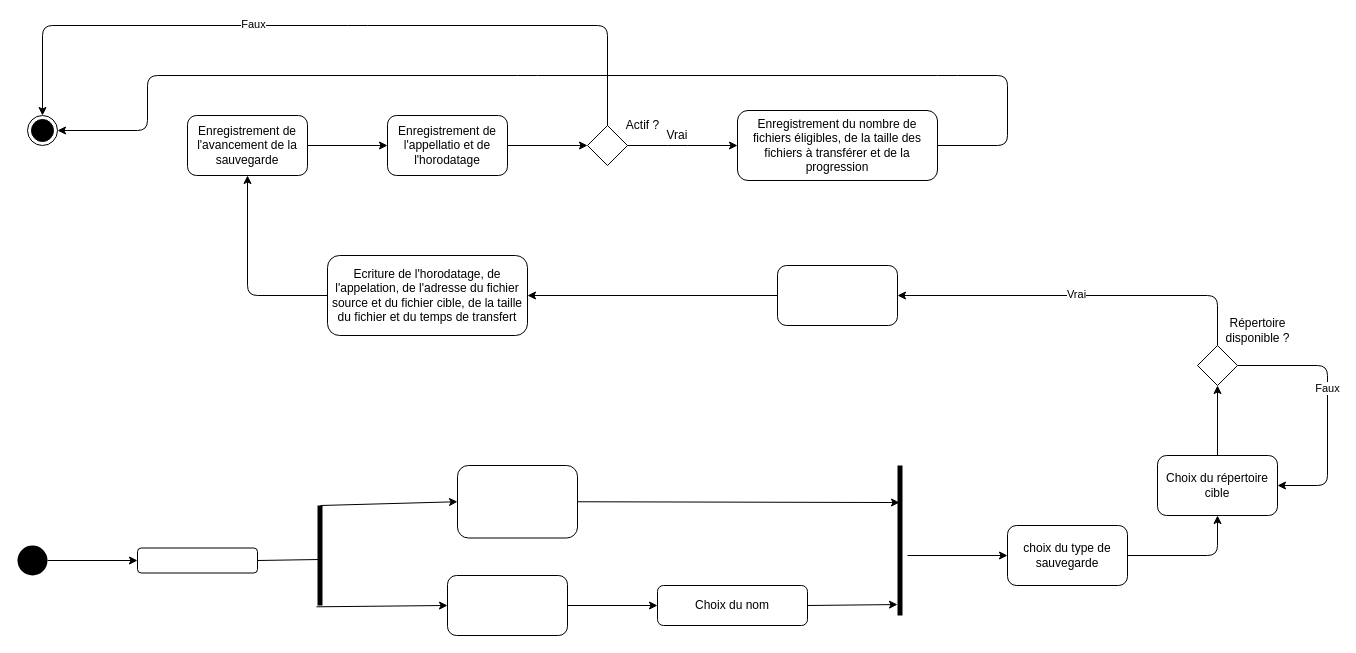
The diagram is 1356 pixels wide and 653 high, and some of its shapes have lost their labels. The centre of each missing label's shape, as x and y in pixels:
Choix de la langue: (x=197, y=560)
Création d'un fichier log journalier: (x=837, y=295)
Execution d'un des travaux de sauvegarde: (x=507, y=605)
Execution de l'ensemble des travaux: (x=517, y=501)
